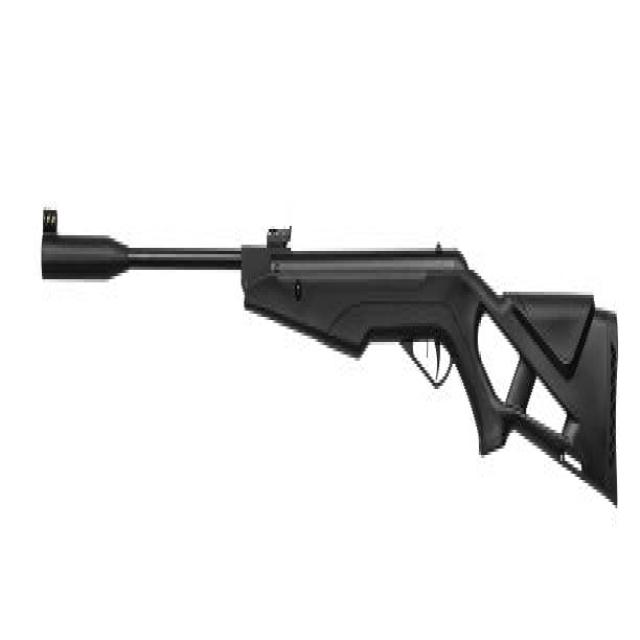rifle: (37, 181, 626, 522)
